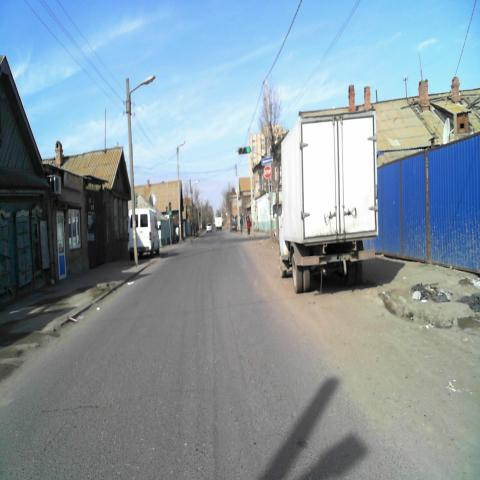5_7_2: (261, 155, 273, 166)
